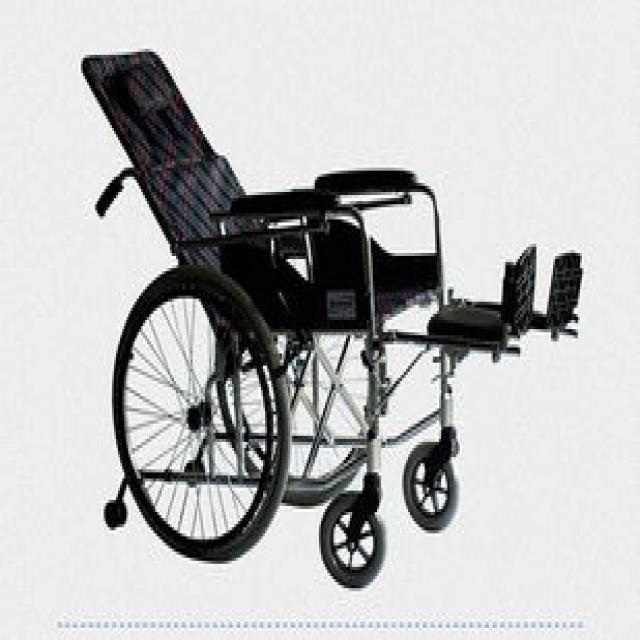wheelchair: (33, 16, 611, 606)
